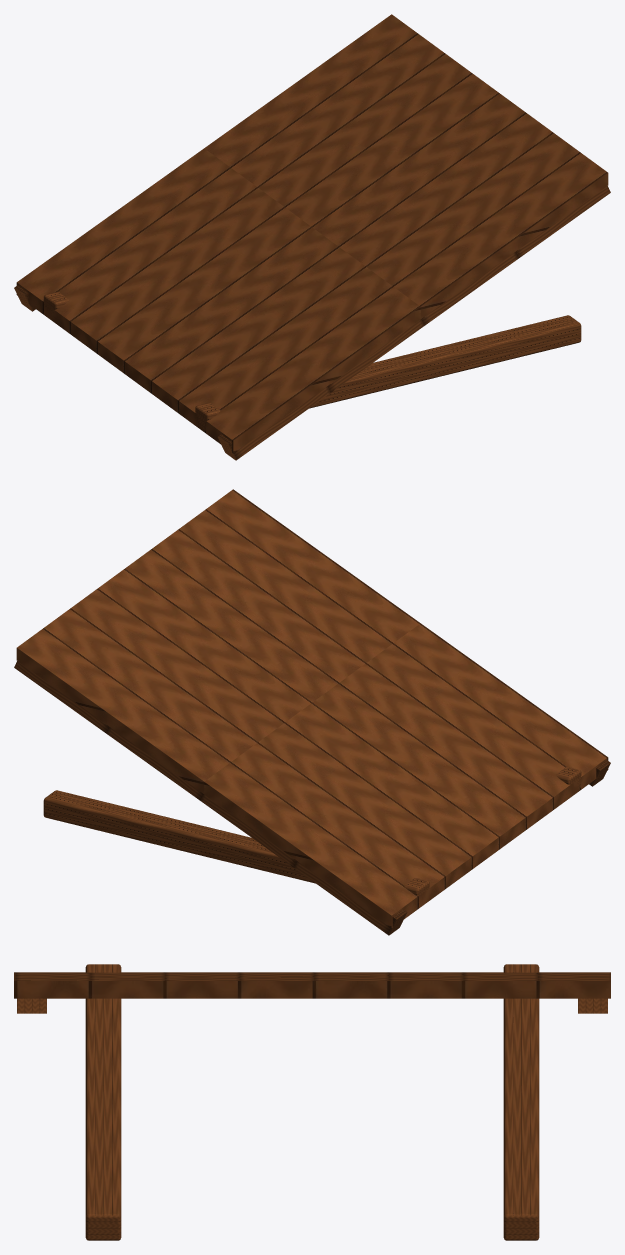
File: modular-survival-base-builder-roof-shed-slope-1dc29c3d__24173.glb
3 renders of one model, top to bottom at view 1: azimuth 30°, elevation 25°; view 2: azimuth 150°, elevation 25°; view 3: azimuth 270°, elevation 25°, orthographic. The views are drawn at different scales.
Visible parts, largest first — view 1: roof-shed-slope; view 2: roof-shed-slope; view 3: roof-shed-slope.
Boxes of the visible parts, x1,y1,x2,y2 form: roof-shed-slope: [14, 14, 610, 460]; roof-shed-slope: [14, 489, 610, 935]; roof-shed-slope: [14, 964, 610, 1240].
Bounding box in the file's own units: 2.04 × 1.01 × 2.
1 material, 1 textured.
